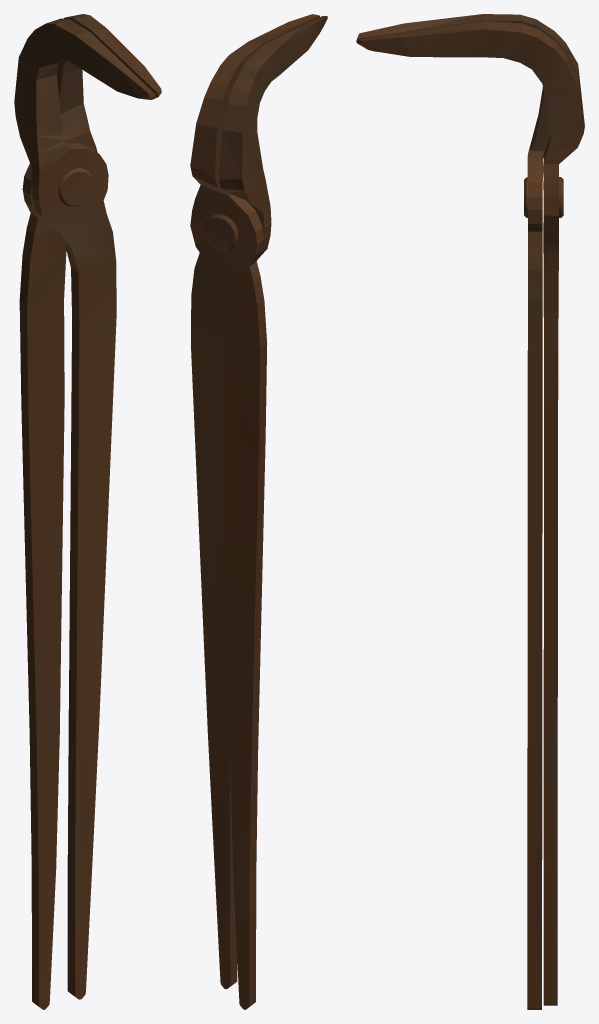
File: pincers_f118c8b7.glb
3 renders of one model, left to right at view 1: azimuth 30°, elevation 25°; view 2: azimuth 150°, elevation 25°; view 3: azimuth 270°, elevation 25°, orthographic. The views are drawn at different scales.
Parts seen in each view (by area): view 1: SM_Pincers01b_M_Pincers01b_0; view 2: SM_Pincers01b_M_Pincers01b_0; view 3: SM_Pincers01b_M_Pincers01b_0.
Boxes of the visible parts, x1,y1,x2,y2 form: SM_Pincers01b_M_Pincers01b_0: (14, 14, 161, 1009); SM_Pincers01b_M_Pincers01b_0: (190, 14, 327, 1009); SM_Pincers01b_M_Pincers01b_0: (356, 14, 584, 1009).
Size of the model in its own units: 0.036 by 0.4197 by 0.0877.
